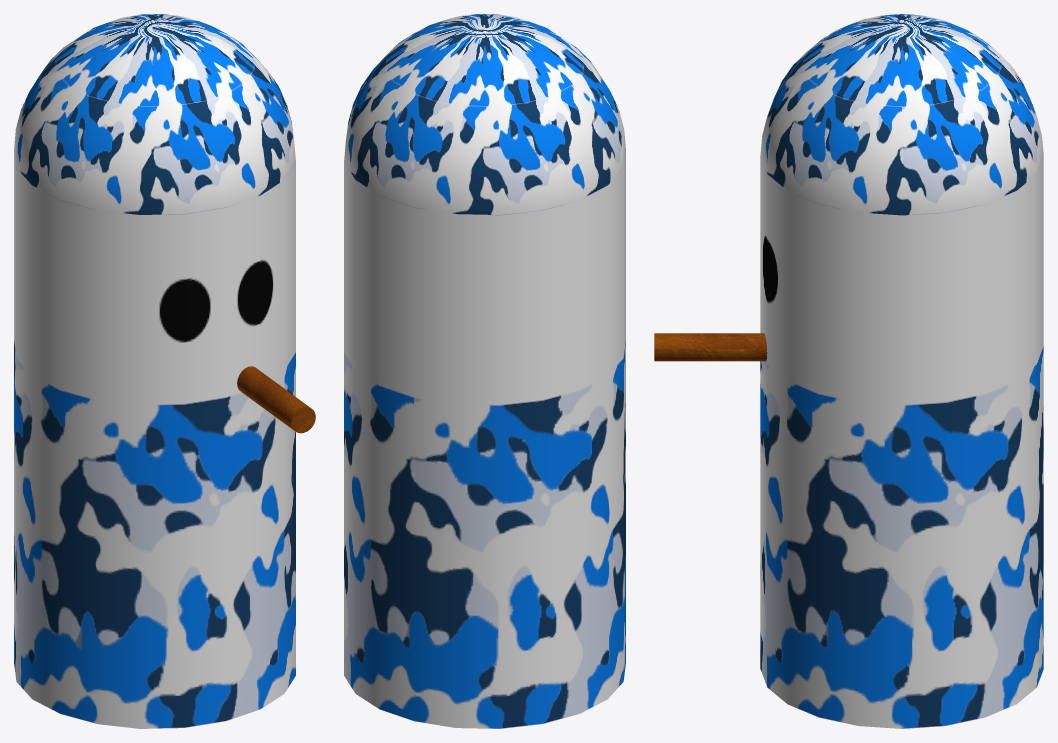
File: soldierblue.fbx
3 renders of one model, left to right at view 1: azimuth 30°, elevation 25°; view 2: azimuth 150°, elevation 25°; view 3: azimuth 270°, elevation 25°, orthographic.
Parts seen in each view (by area): view 1: polySurface1, pCylinder2; view 2: polySurface1; view 3: polySurface1, pCylinder2.
Part boxes in pixels (<box>): polySurface1: <box>14,14,295,728</box>; pCylinder2: <box>237,366,315,433</box>; polySurface1: <box>344,14,625,728</box>; polySurface1: <box>760,14,1043,728</box>; pCylinder2: <box>654,333,767,361</box>.
Size of the model in its own units: 2 by 5 by 2.75.
Materials: 3 (3 with a texture image).
